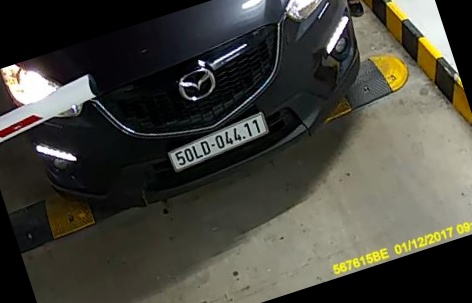plate: (167, 115, 276, 176)
